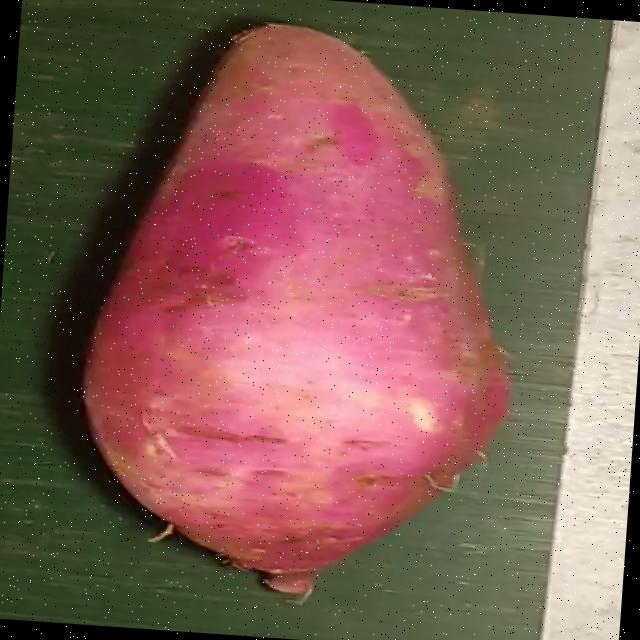Sweet Potato: (80, 22, 513, 574)
